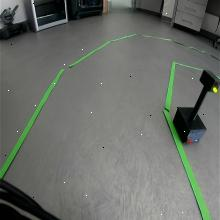green: (198, 68, 220, 93)
